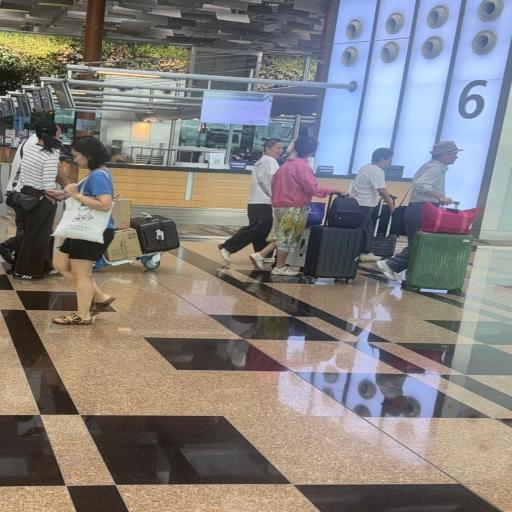person_left: (51, 131, 126, 331)
person_right: (218, 138, 284, 264)
person_with_luggage_right: (0, 98, 194, 280), (249, 136, 349, 276), (376, 141, 464, 281), (349, 148, 396, 262)
